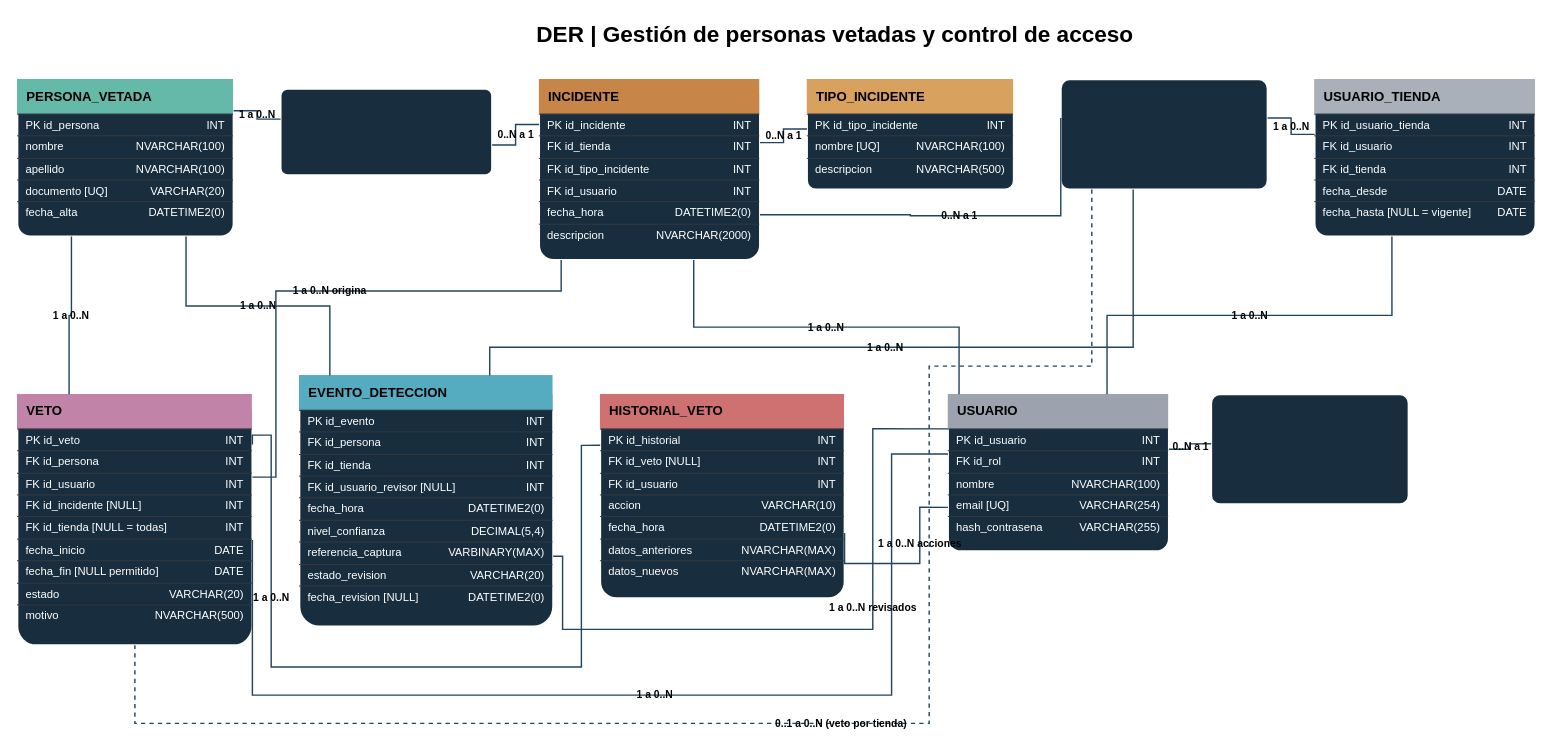
Image size: 1552x745. Some labels were removed from this diagram. The centre of each missing label's shape, as x and y in pixels:
PERSONA_INCIDENTE INT PK, FK id_persona INT PK, FK id_incidente: pixel 386 131
ROL INT PK id_rol NVARCHAR(50) nombre [UQ] NVARCHAR(500) descripcion: pixel 1309 449
TIENDA INT PK id_tienda NVARCHAR(100) nombre NVARCHAR(250) direccion: pixel 1163 134
